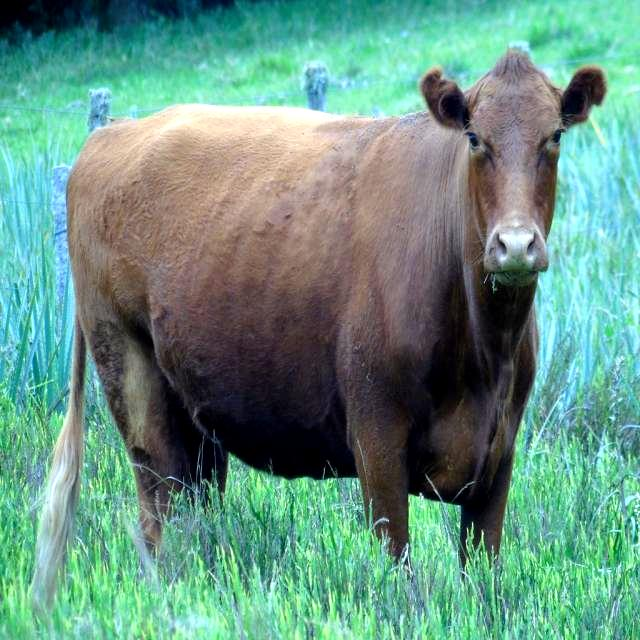COW: (38, 51, 602, 586)
